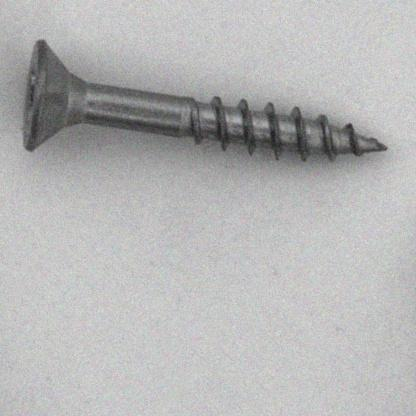metal: (19, 38, 389, 163)
